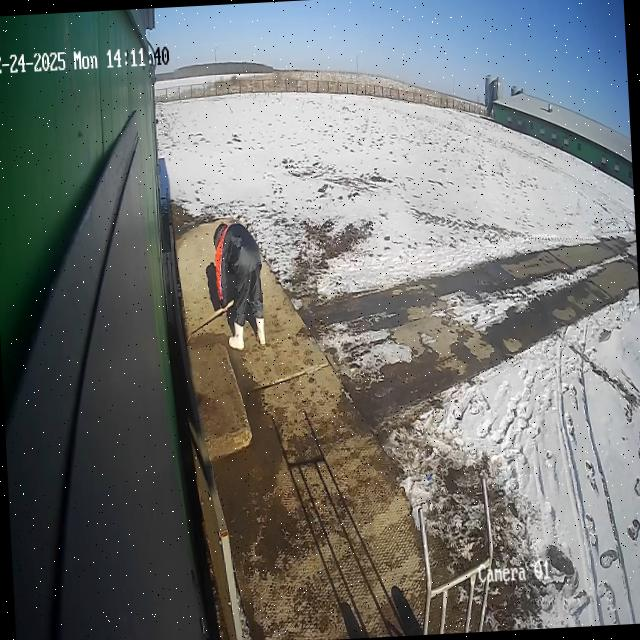Red uniform: (209, 216, 268, 354)
